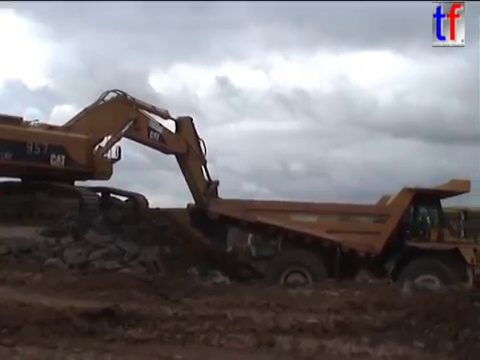excavator: (1, 85, 240, 259)
truck: (183, 176, 480, 320)
